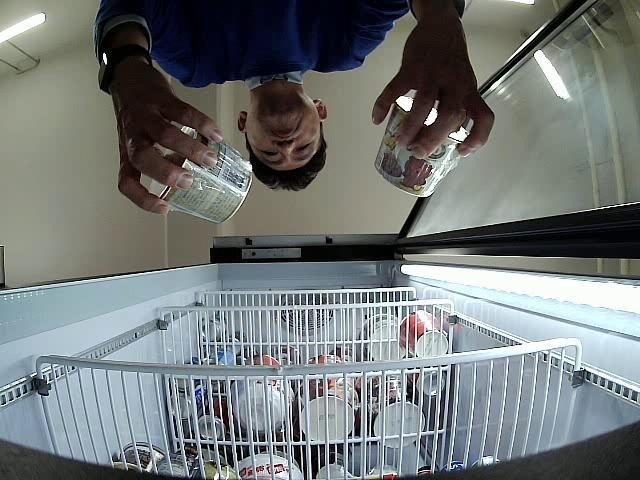04_chapagetti_S: (148, 124, 252, 224), (374, 96, 470, 197)
